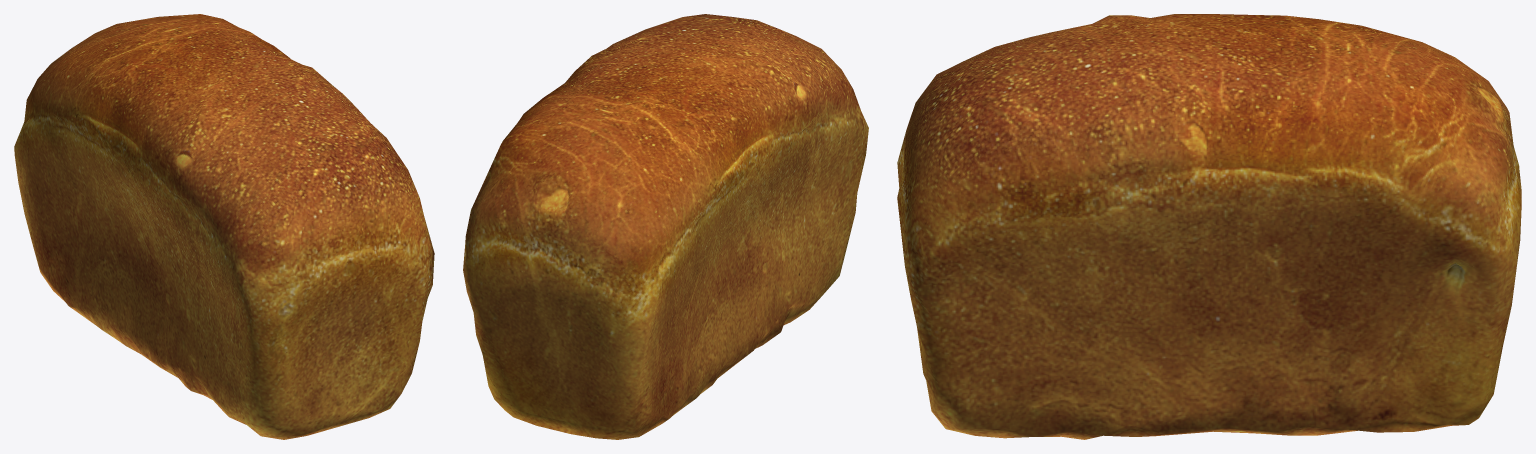
The model's file is SM_Bread_03.fbx.
3 views of the same model, side by side, from view 1: azimuth 30°, elevation 25°; view 2: azimuth 150°, elevation 25°; view 3: azimuth 270°, elevation 25° (orthographic). The views are drawn at different scales.
Parts seen in each view (by area): view 1: SM_Bread_01a; view 2: SM_Bread_01a; view 3: SM_Bread_01a.
Boxes of the visible parts, x1,y1,x2,y2 form: SM_Bread_01a: [14, 14, 434, 439]; SM_Bread_01a: [463, 14, 868, 439]; SM_Bread_01a: [897, 14, 1521, 439].
Size of the model in its own units: 0.1222 by 0.2592 by 0.1675.
